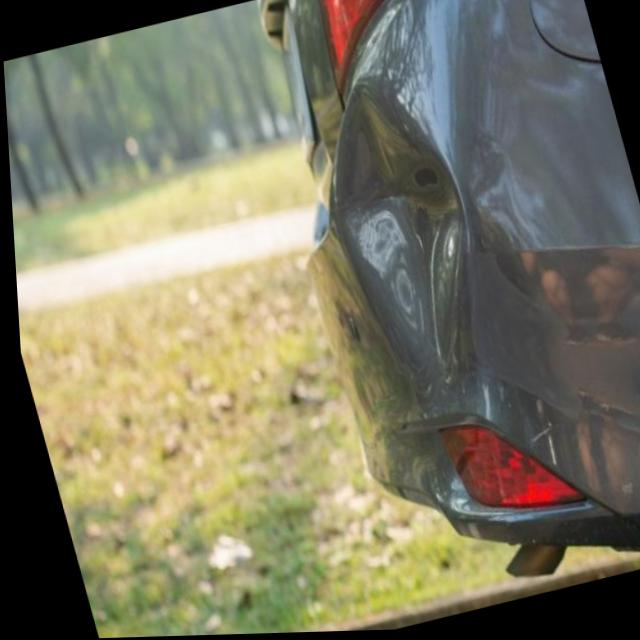Dent: (322, 92, 541, 409)
